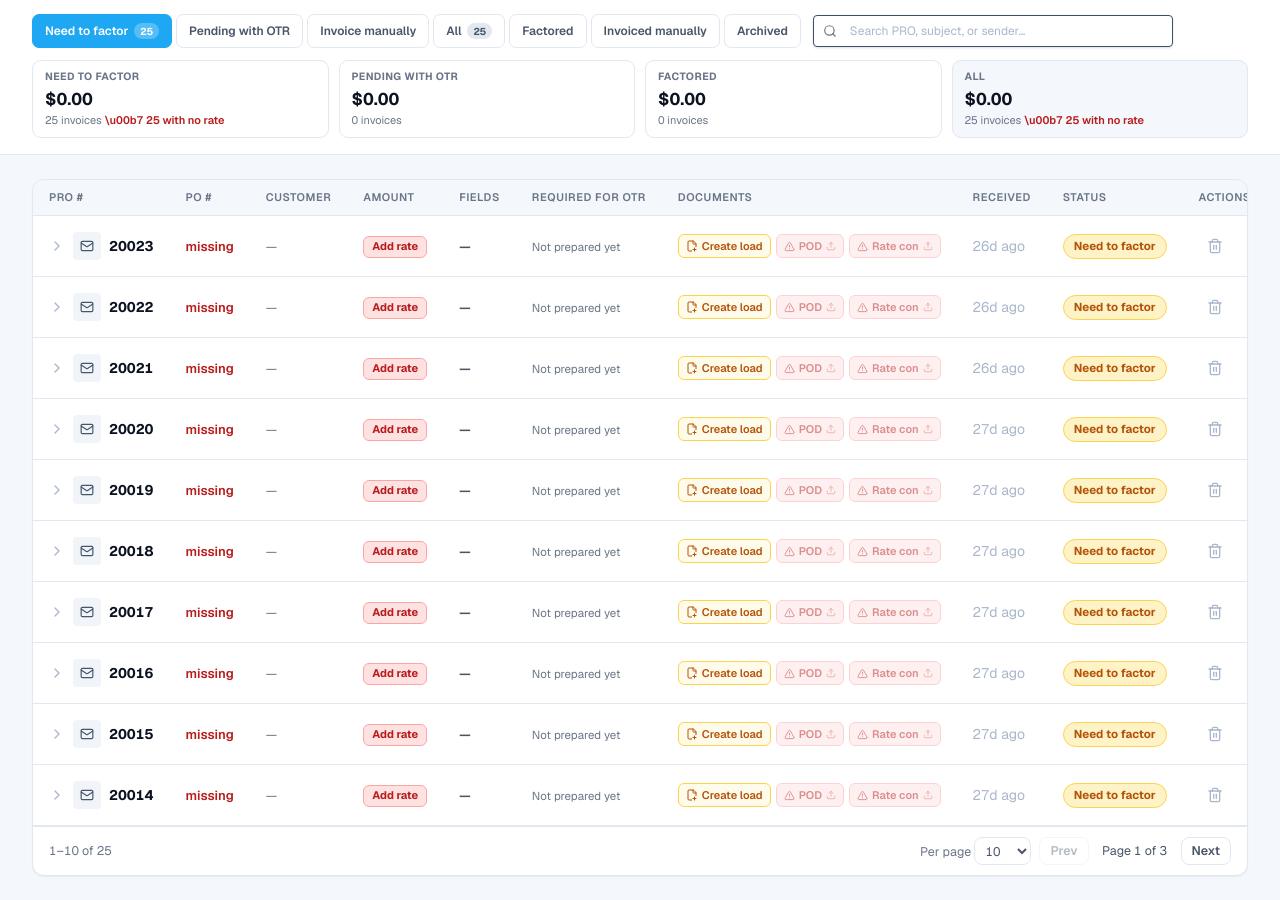
Scenario: paging through the queue › goes back to the first page when the filter changes
(page scrolled)
Click the button with aria-label "Next page" at (1206, 852), box x1=1180 y1=838 x2=1231 y2=866
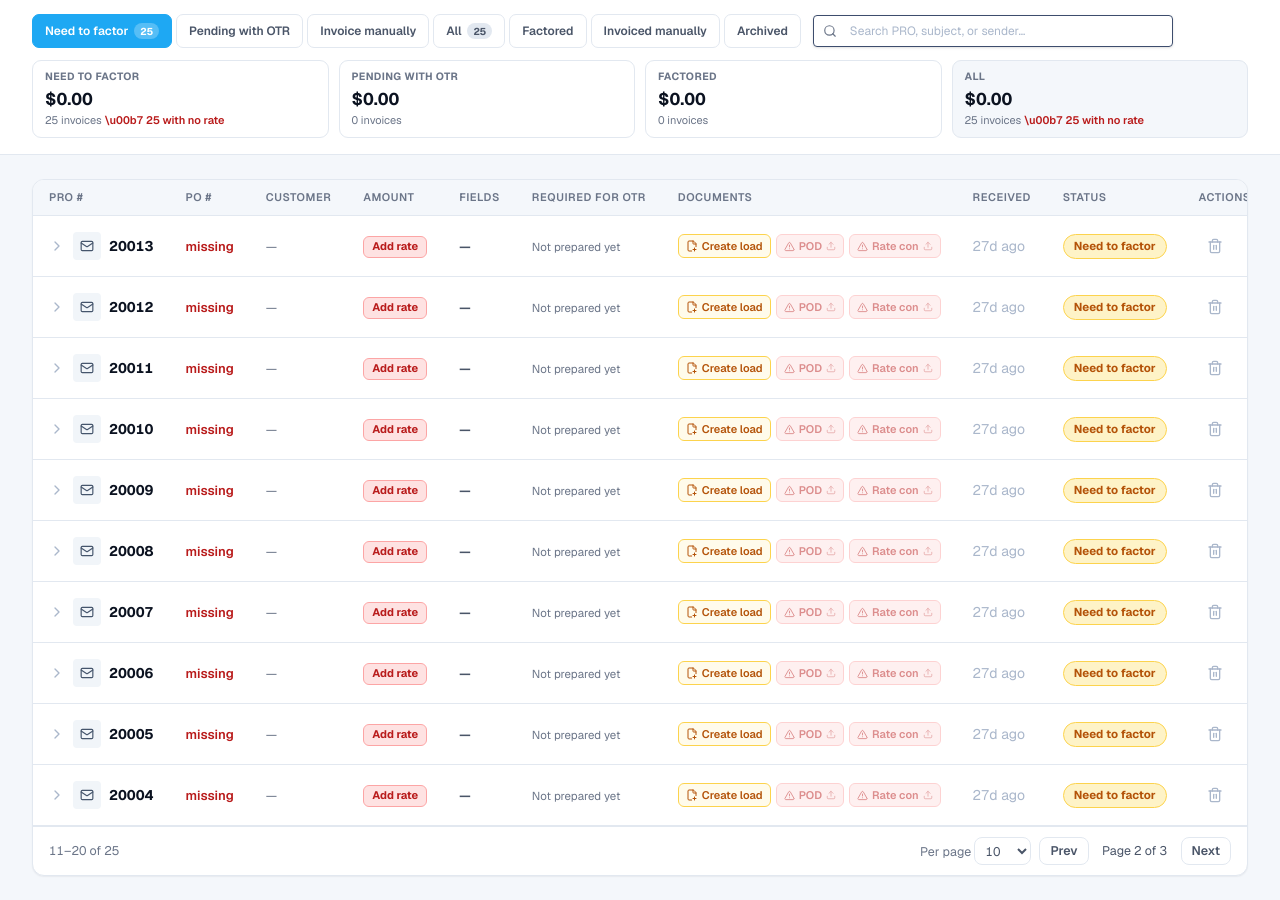
Result: the text "11–20 of 25" is shown at x1=49 y1=842 x2=119 y2=861
Type "2000" into the field with placeholder "Search PRO, subject, or sender…" at (993, 31), box x1=813 y1=15 x2=1173 y2=47
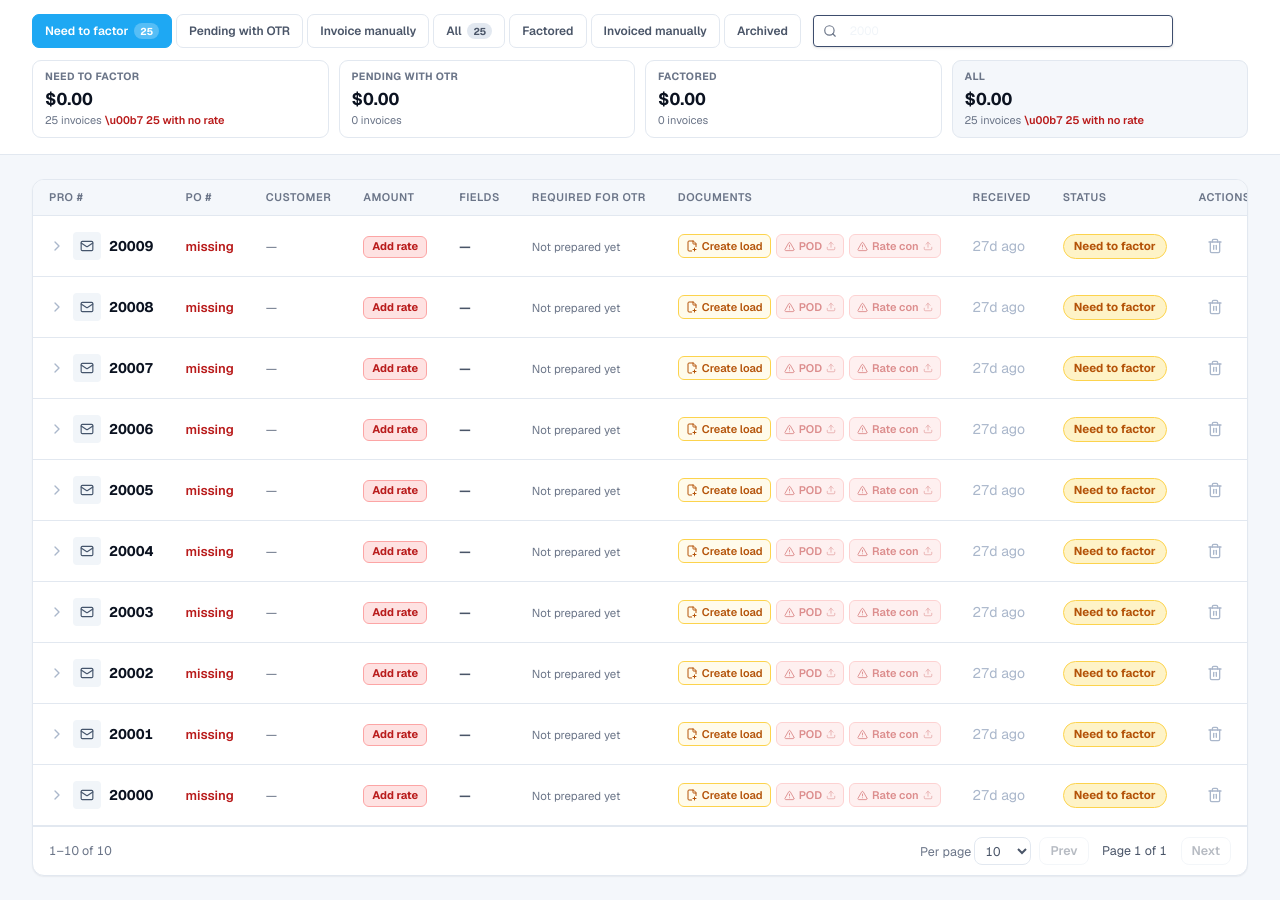
Result: the text "1–10 of 10" is shown at x1=49 y1=842 x2=112 y2=861
